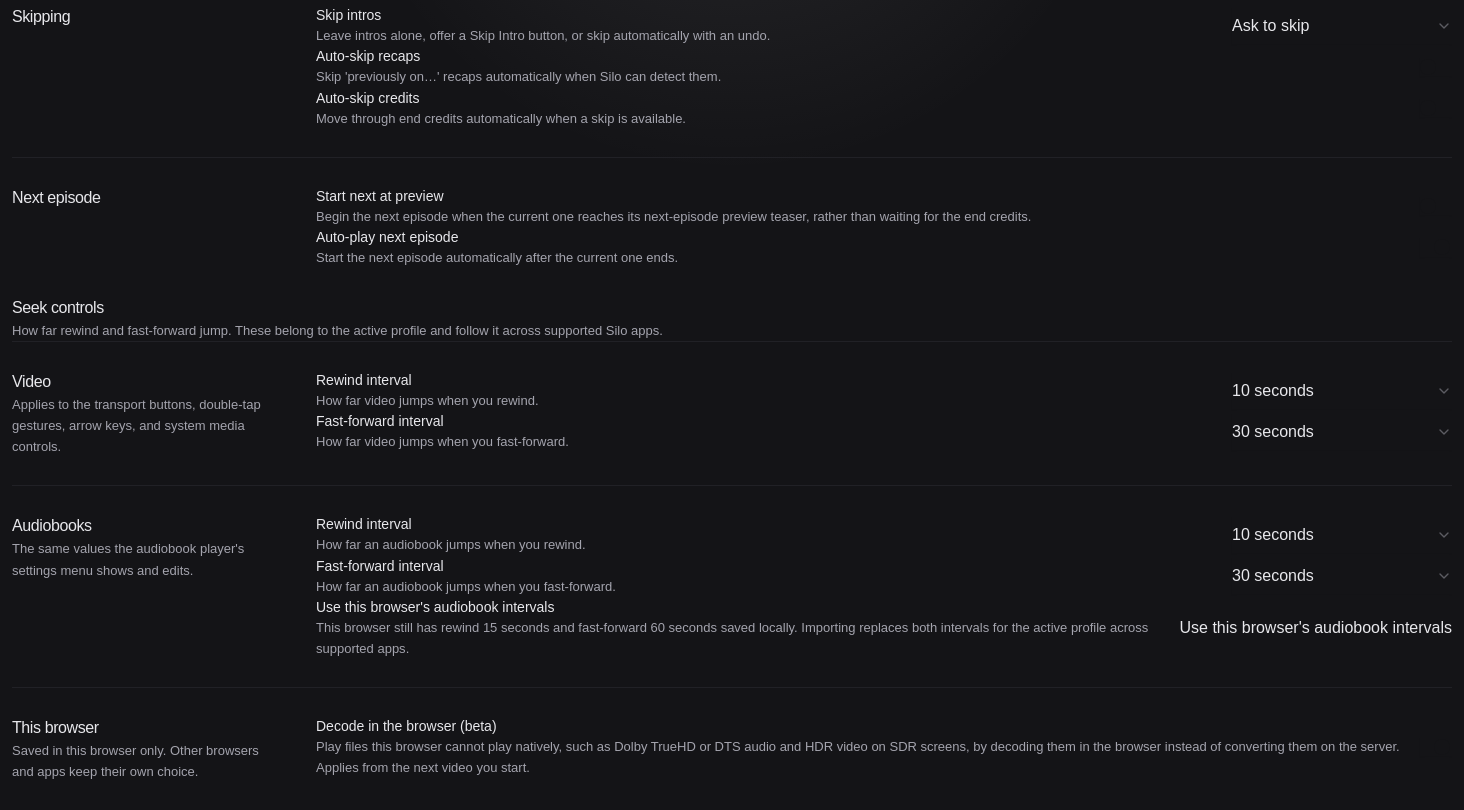
Test case: PlaybackSettings › seek controls › reports a partial import failure per direction and keeps the retry available
(page scrolled)
Click the button "Use this browser's audiobook intervals" at x=1316, y=628, box [1180,612,1452,644]
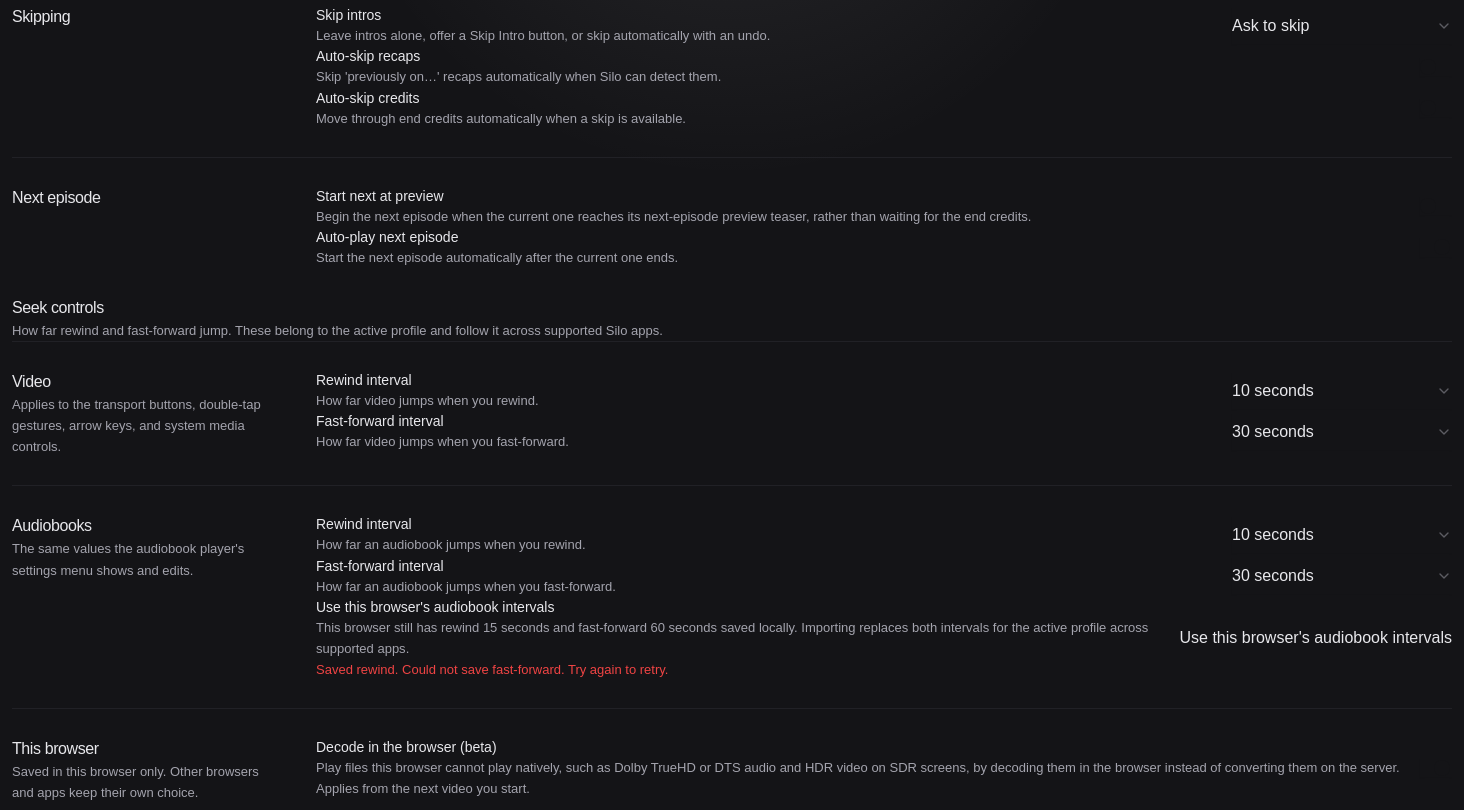
Check: the button "Use this browser's audiobook intervals" is enabled, box [1180,622,1452,654]
Check: the message shows "Saved rewind.", box [316,662,398,677]
Check: the message shows "Could not save fast-forward.", box [402,662,668,677]
